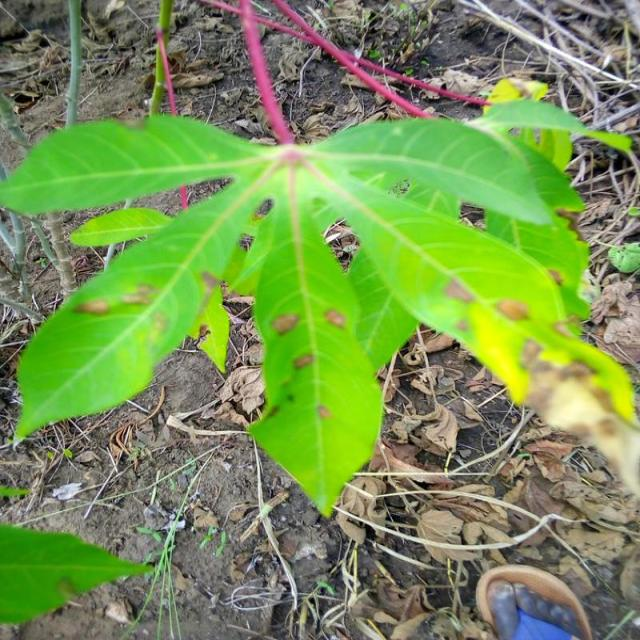cassava leaf: (2, 95, 637, 517), (0, 522, 154, 625)
